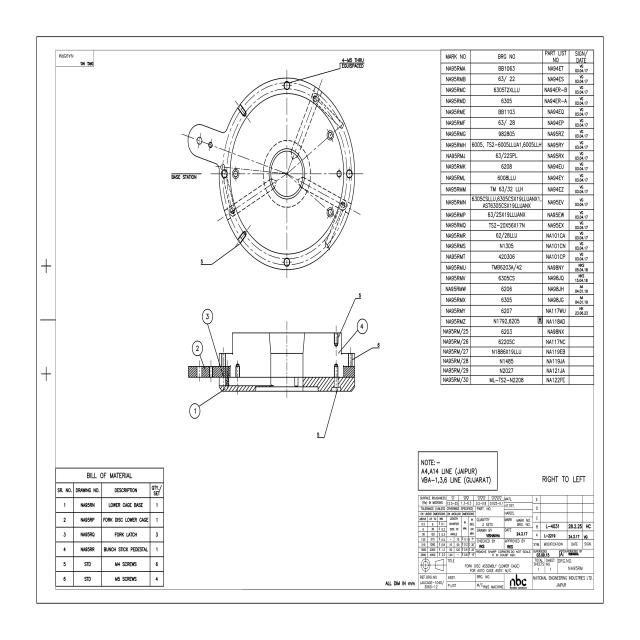dimension: (286, 57, 366, 87), (200, 230, 247, 267), (333, 292, 362, 347), (316, 386, 339, 440), (202, 308, 222, 369), (189, 387, 225, 420), (337, 318, 368, 355), (350, 341, 380, 362), (191, 340, 207, 370)
